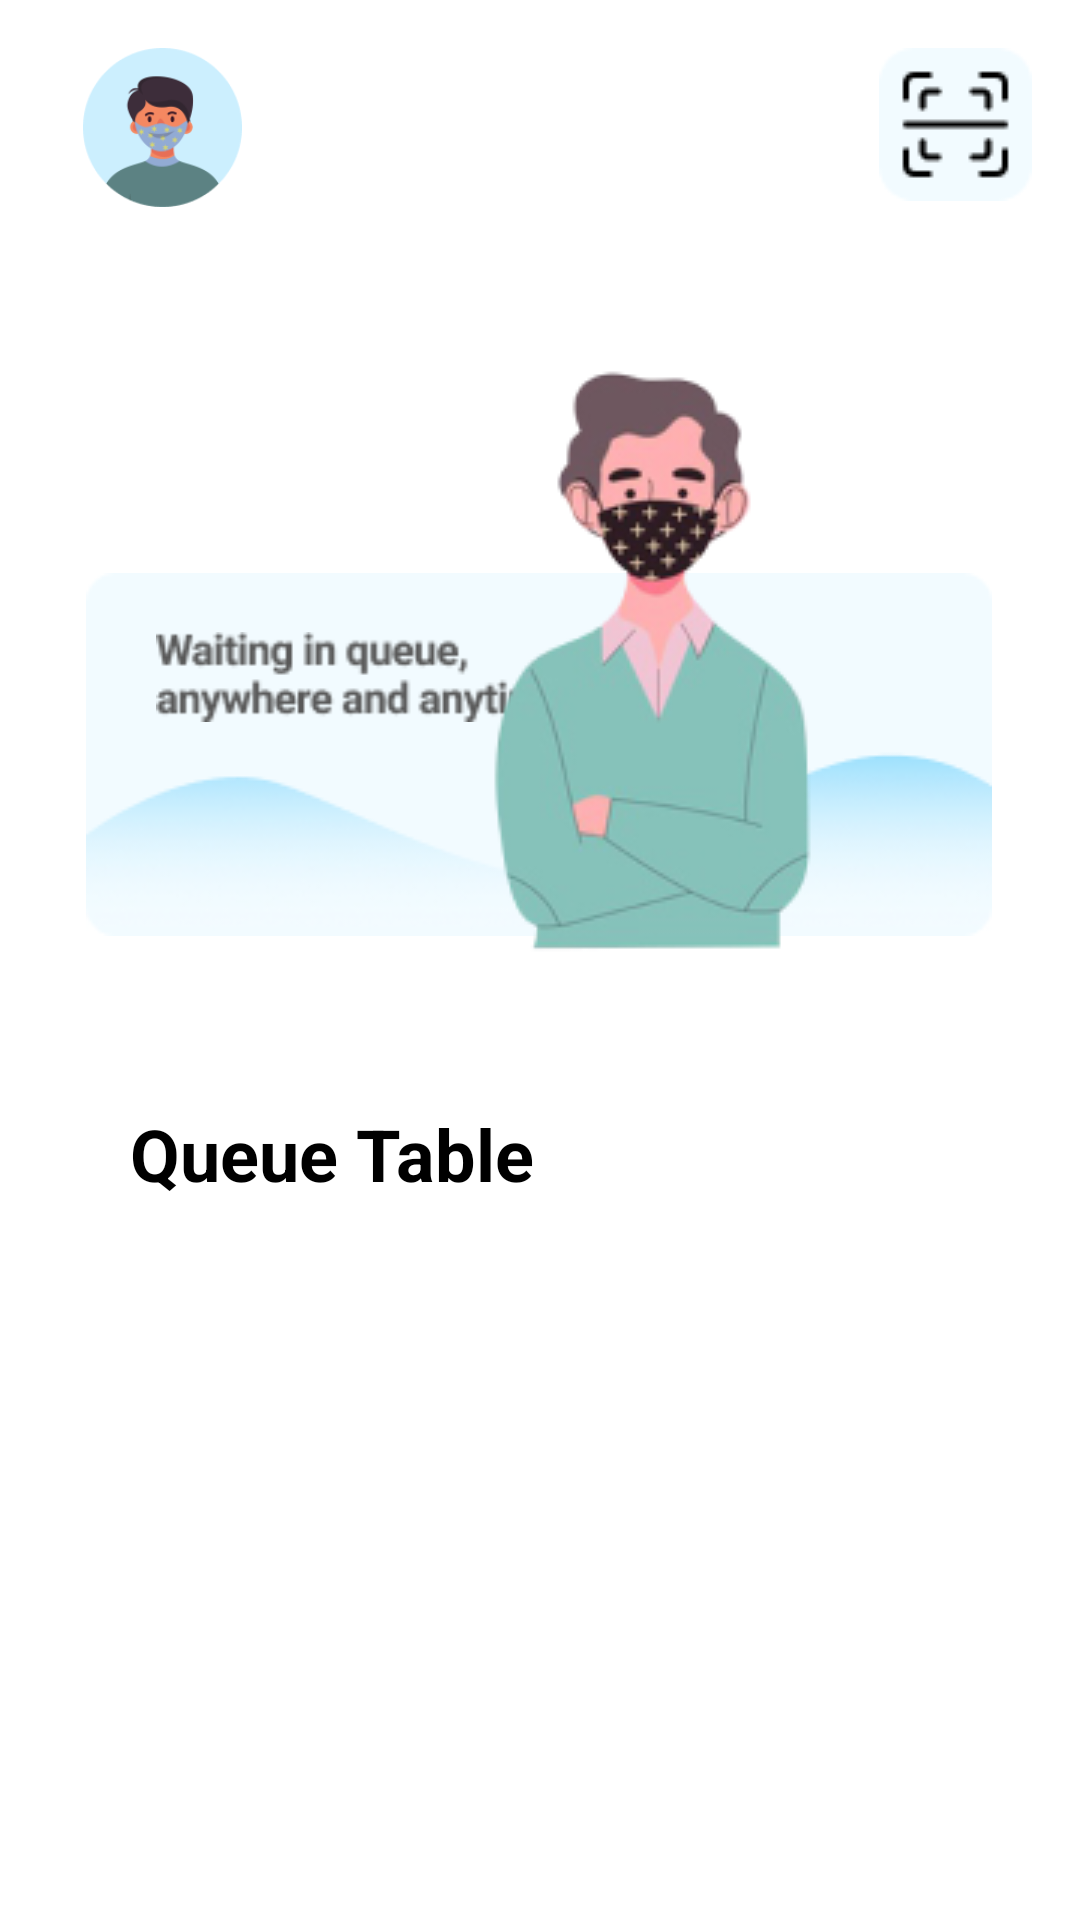

Icon bounding boxes for this 1080 × 1920 phone screenshot, format (x1, y1, x2, y2):
profile: (83, 48, 242, 207)
scanner: (879, 48, 1032, 201)
